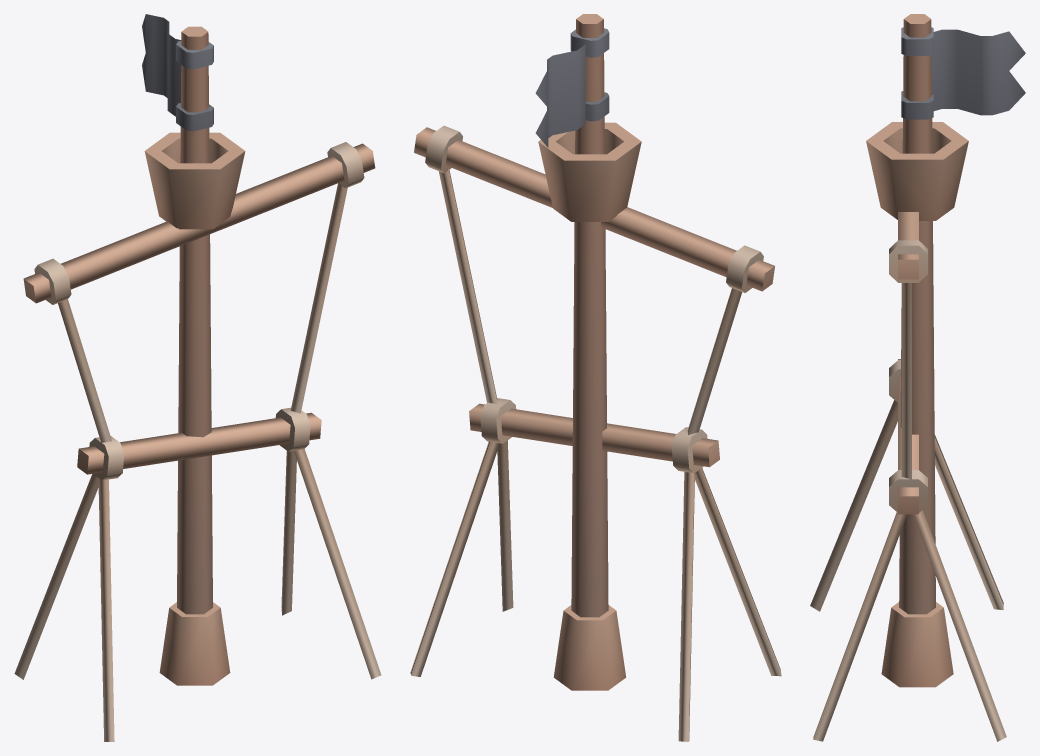
Rendered from mast-ropes.glb.
3 renders of one model, left to right at view 1: azimuth 30°, elevation 25°; view 2: azimuth 150°, elevation 25°; view 3: azimuth 270°, elevation 25°, orthographic. The views are drawn at different scales.
Visible parts, largest first — view 1: mast-ropes, sail-a, flag-c; view 2: mast-ropes, sail-a, flag-c; view 3: mast-ropes, flag-c, sail-a.
Part boxes in pixels (<box>): mast-ropes: <box>14,26,381,741</box>; sail-a: <box>23,142,375,480</box>; flag-c: <box>142,14,213,131</box>; mast-ropes: <box>410,14,781,741</box>; sail-a: <box>414,125,774,473</box>; flag-c: <box>535,28,609,147</box>; mast-ropes: <box>810,14,1006,741</box>; flag-c: <box>901,27,1025,119</box>; sail-a: <box>889,212,927,514</box>.
Bounding box in the file's own units: 4.39 × 7.89 × 2.35.
